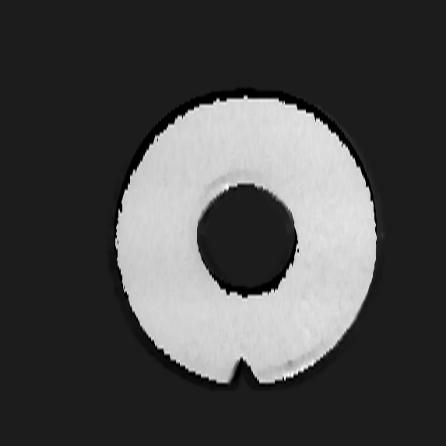defect: (225, 355, 262, 386)
